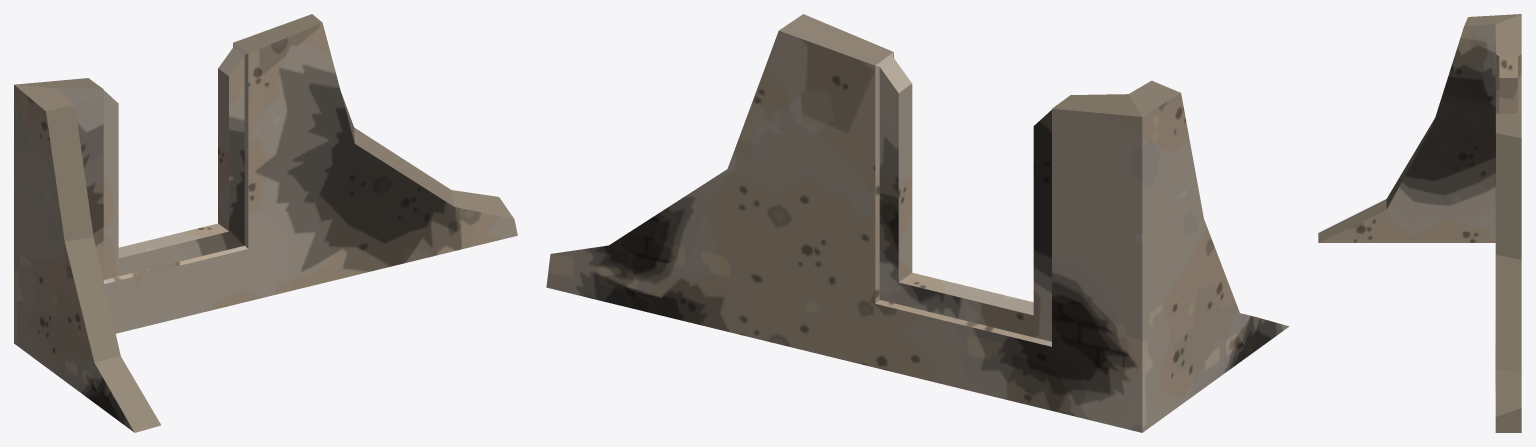
The model's file is SM_Bld_Village_02_Destroyed.glb.
3 views of the same model, side by side, from view 1: azimuth 30°, elevation 25°; view 2: azimuth 150°, elevation 25°; view 3: azimuth 270°, elevation 25° (orthographic). The views are drawn at different scales.
Visible parts, largest first — view 1: SM_Bld_Village_02_Destroyed; view 2: SM_Bld_Village_02_Destroyed; view 3: SM_Bld_Village_02_Destroyed.
Part boxes in pixels (x1=…): SM_Bld_Village_02_Destroyed: x1=14, y1=14, x2=517, y2=432; SM_Bld_Village_02_Destroyed: x1=546, y1=14, x2=1289, y2=432; SM_Bld_Village_02_Destroyed: x1=1318, y1=14, x2=1521, y2=432.
Size of the model in its own units: 4.58 by 2.34 by 1.96.
Materials: 1 (1 with a texture image).
